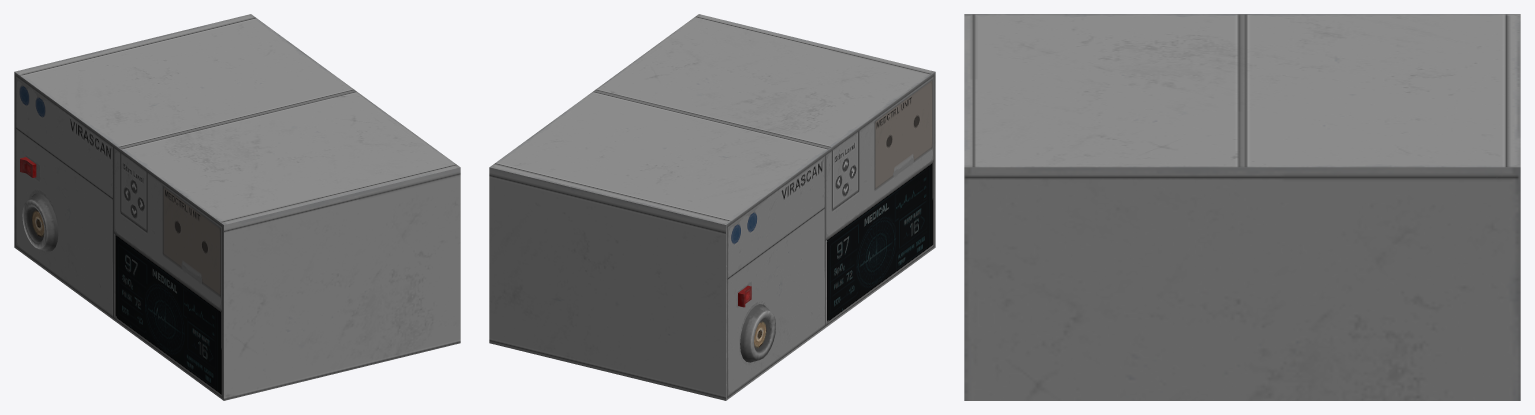
Rendered from HH_Medical_Device_04.fbx.
3 renders of one model, left to right at view 1: azimuth 30°, elevation 25°; view 2: azimuth 150°, elevation 25°; view 3: azimuth 270°, elevation 25°, orthographic. The views are drawn at different scales.
Parts seen in each view (by area): view 1: HH_Medical_Device_04_LOD0; view 2: HH_Medical_Device_04_LOD0; view 3: HH_Medical_Device_04_LOD0.
Boxes of the visible parts, box(x1,y1,x2,y2) form: HH_Medical_Device_04_LOD0: box(14, 14, 460, 400); HH_Medical_Device_04_LOD0: box(489, 14, 935, 400); HH_Medical_Device_04_LOD0: box(964, 14, 1520, 400).
Size of what is drawn, in the model's own units: 44.19 by 30.31 by 65.46.
